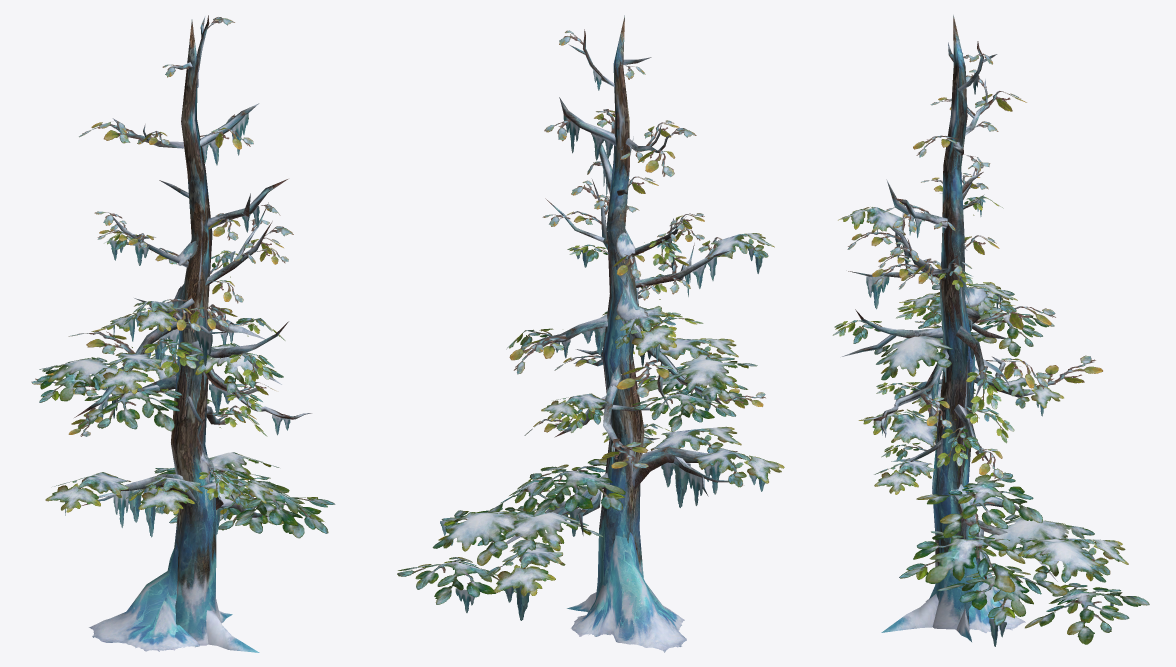
Rendered from snow_wj3.fbx.
3 views of the same model, side by side, from view 1: azimuth 30°, elevation 25°; view 2: azimuth 150°, elevation 25°; view 3: azimuth 270°, elevation 25° (orthographic). The views are drawn at different scales.
Visible parts, largest first — view 1: snow_wj3; view 2: snow_wj3; view 3: snow_wj3.
Part boxes in pixels (left/top/right/bottom): snow_wj3: left=31, top=15, right=335, bottom=652; snow_wj3: left=397, top=15, right=784, bottom=652; snow_wj3: left=832, top=15, right=1149, bottom=646.
Bounding box in the file's own units: 1353 × 2440 × 1247.
